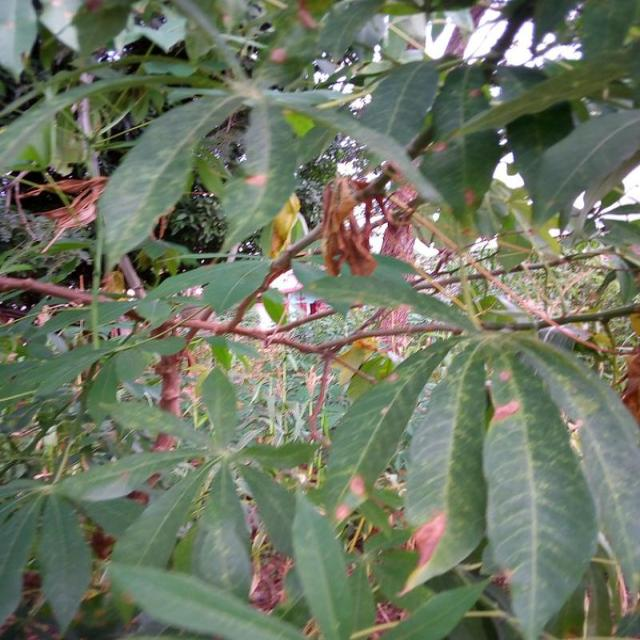cassava leaf: (324, 325, 638, 637), (479, 347, 599, 638)
